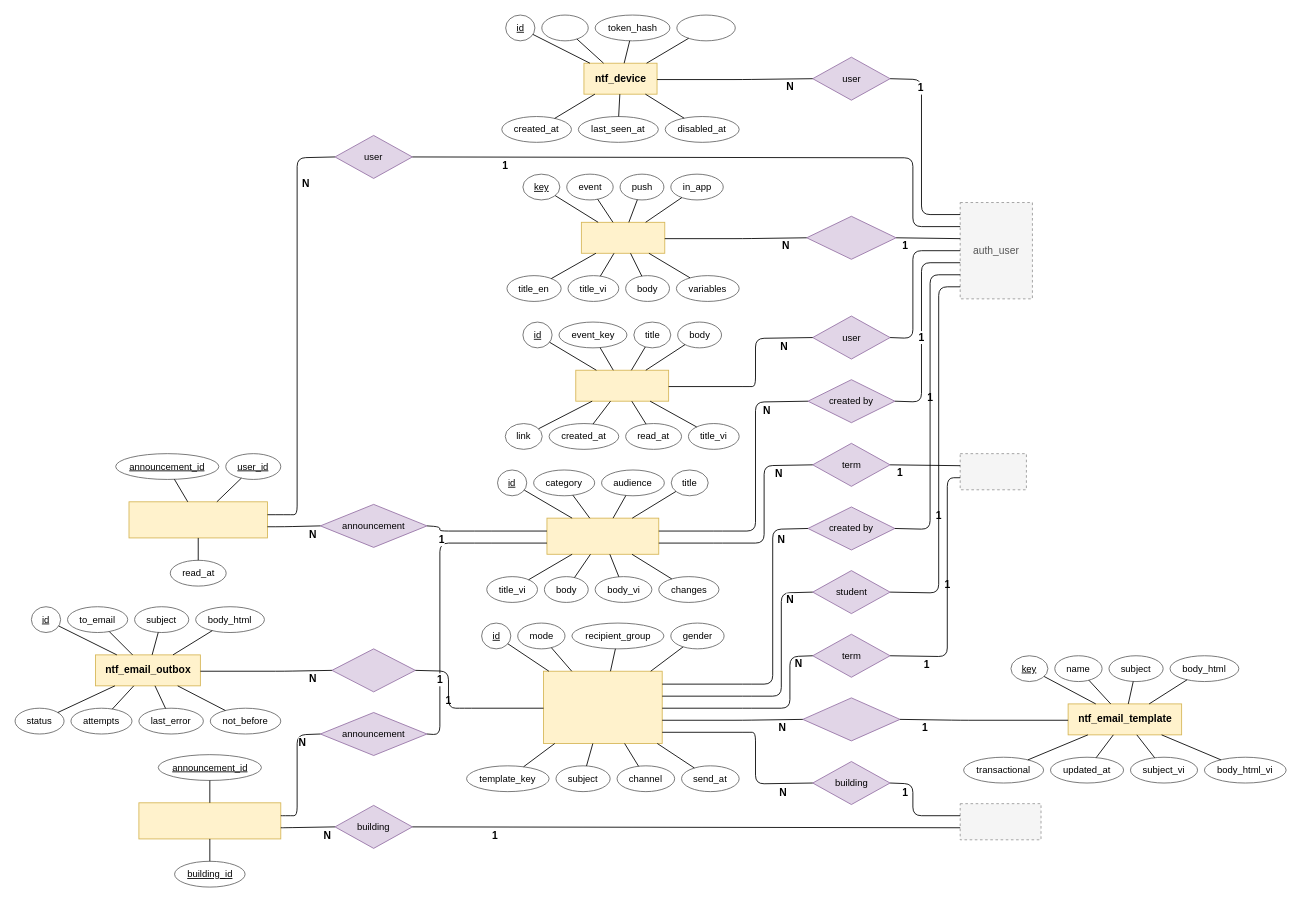
Some shapes in this 1301 by 902 pixel diagram are drawn without their labels. Here are the shapes that lost their labels. From the top down, the centre of each, then its label:
(x=564, y=27): token
(x=705, y=27): platform
(x=622, y=237): ntf_template
(x=851, y=237): updated by
(x=622, y=385): ntf_notification
(x=992, y=471): cfg_term
(x=197, y=519): ntf_announcement_read
(x=602, y=535): ntf_announcement
(x=373, y=670): campaign
(x=602, y=706): ntf_email_campaign
(x=851, y=719): template key
(x=209, y=820): ntf_announcement_block
(x=1000, y=821): inv_building
